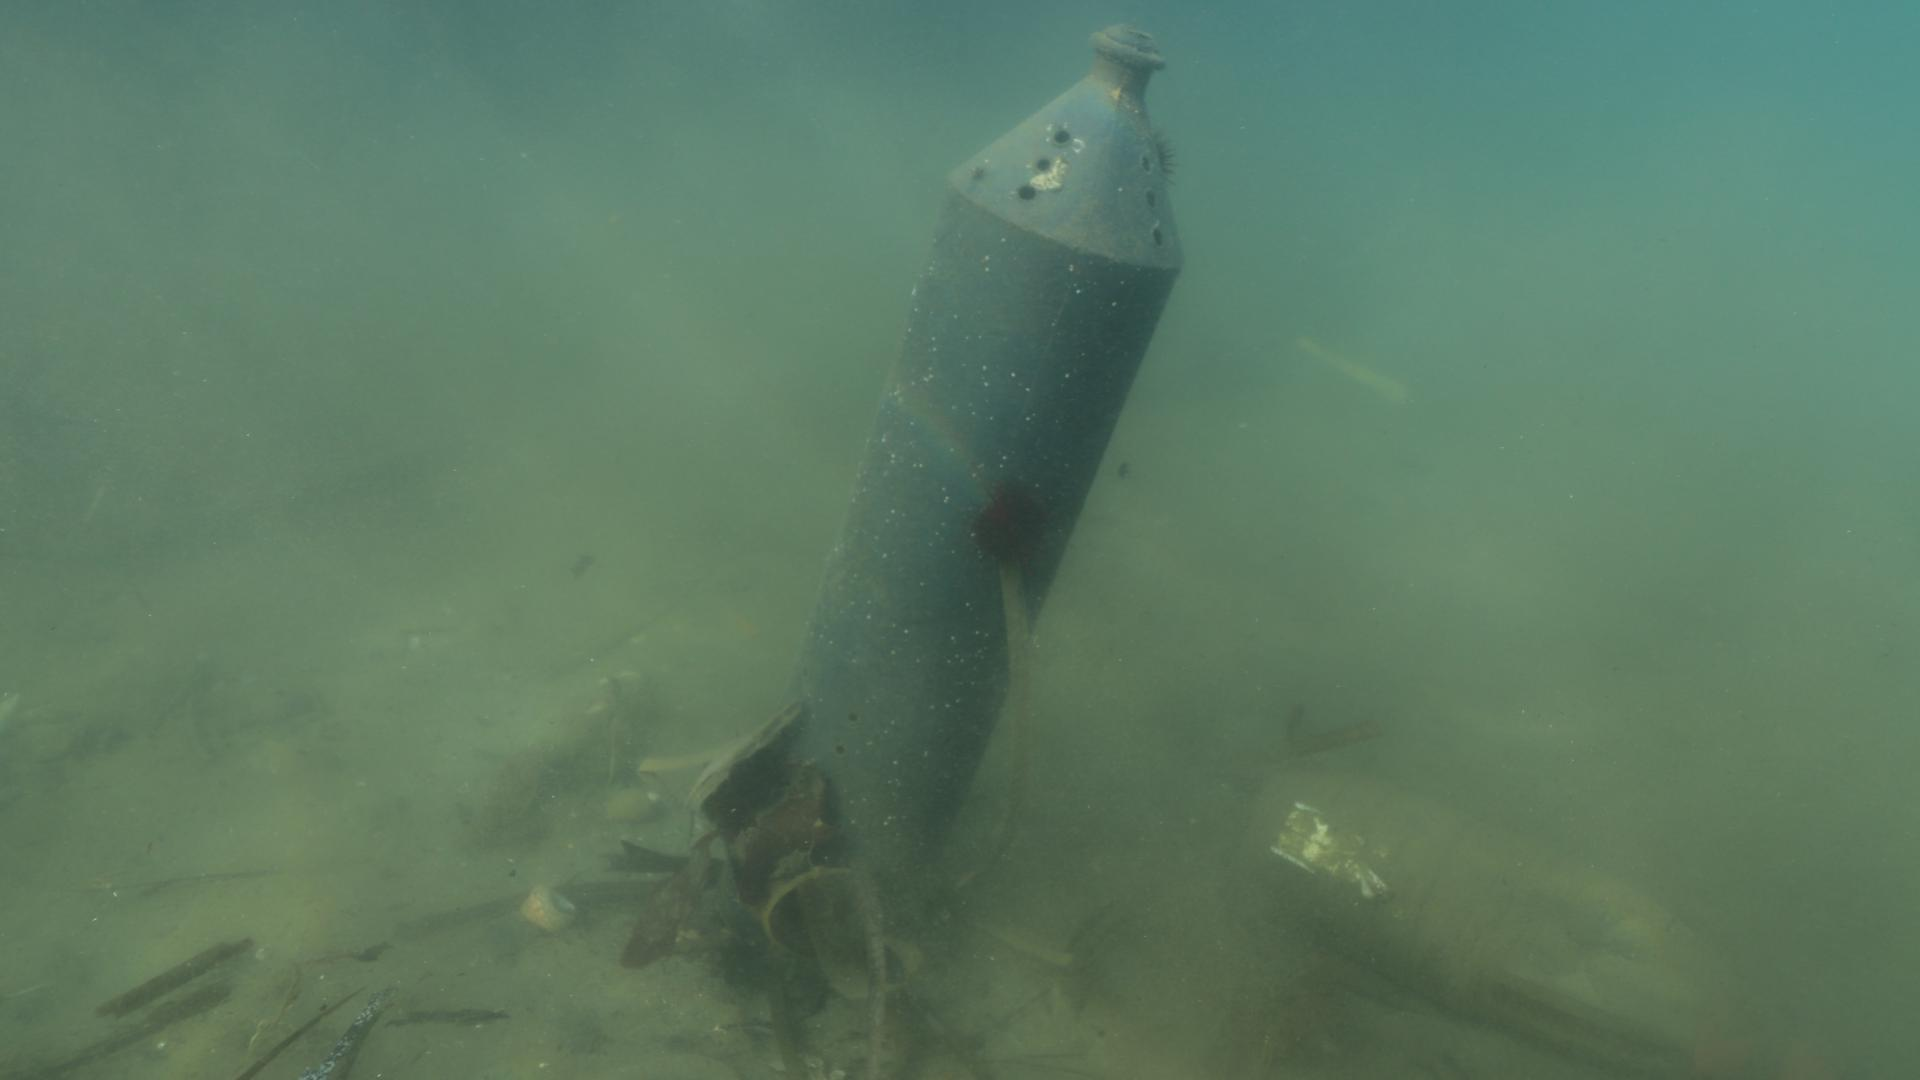eel fish trap: (775, 21, 1189, 935)
